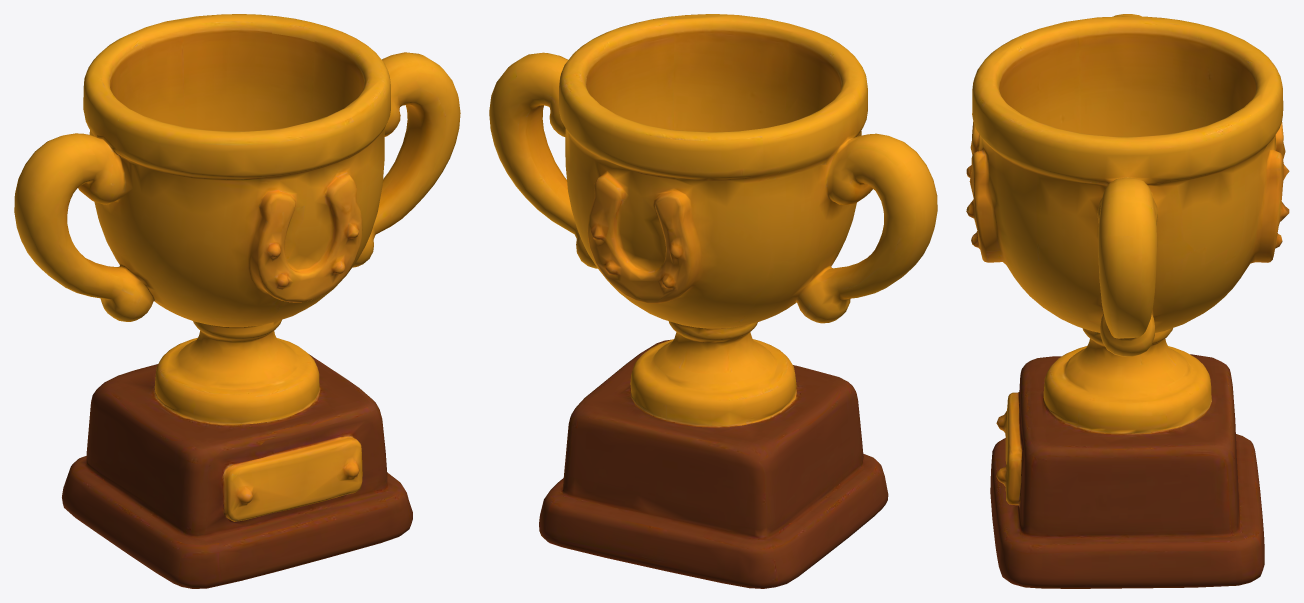
3 views of the same model, side by side, from view 1: azimuth 30°, elevation 25°; view 2: azimuth 150°, elevation 25°; view 3: azimuth 270°, elevation 25° (orthographic).
Visible parts, largest first — view 1: trophy; view 2: trophy; view 3: trophy.
Part boxes in pixels (bbox=[...]): trophy: bbox=[14, 14, 460, 588]; trophy: bbox=[489, 14, 937, 588]; trophy: bbox=[966, 14, 1289, 588].
Size of the model in its own units: 0.4093 by 0.4 by 0.2588.
1 material, 1 textured.
